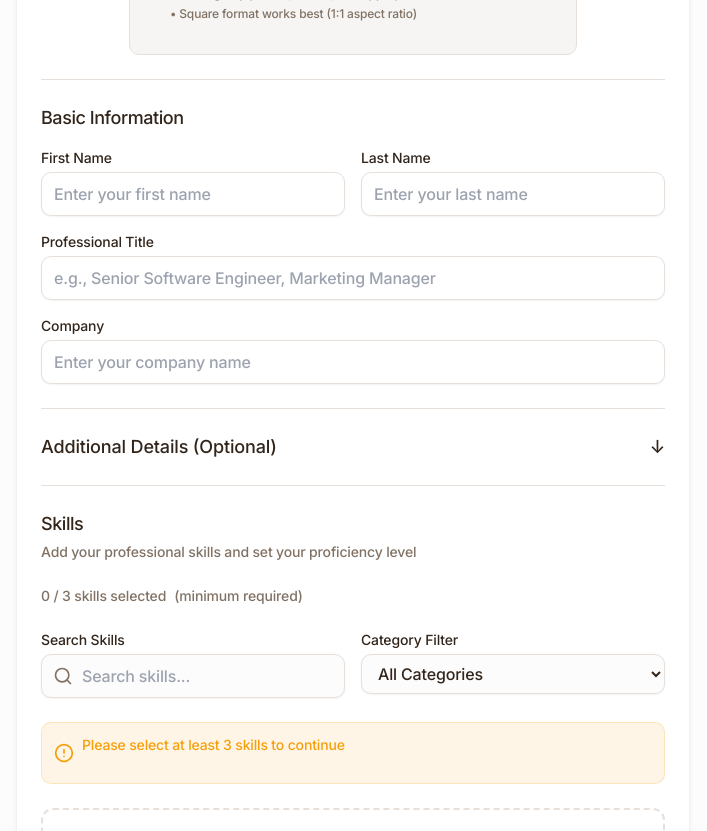
Test case: ProfileCreationForm › validates URL fields correctly
(page scrolled)
Expand to show URL fields
Click the text "Additional Details (Optional)" at (159, 447), box [41,433,277,461]
(page scrolled)
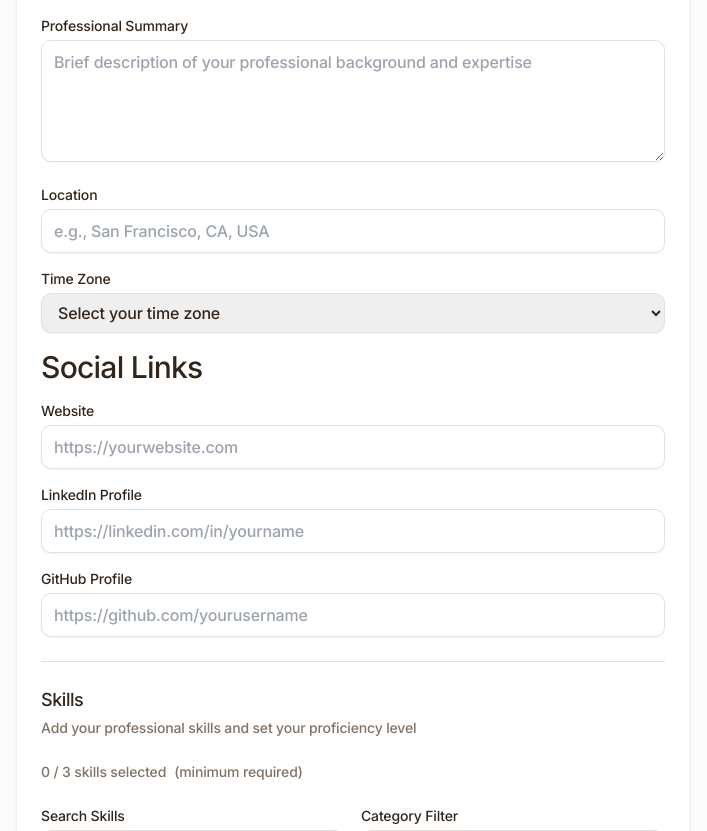
Check: the field labelled "Website" is shown
Enter invalid URL
Type "invalid-url" into the field labelled "Website" at (353, 447), box [41,425,665,469]
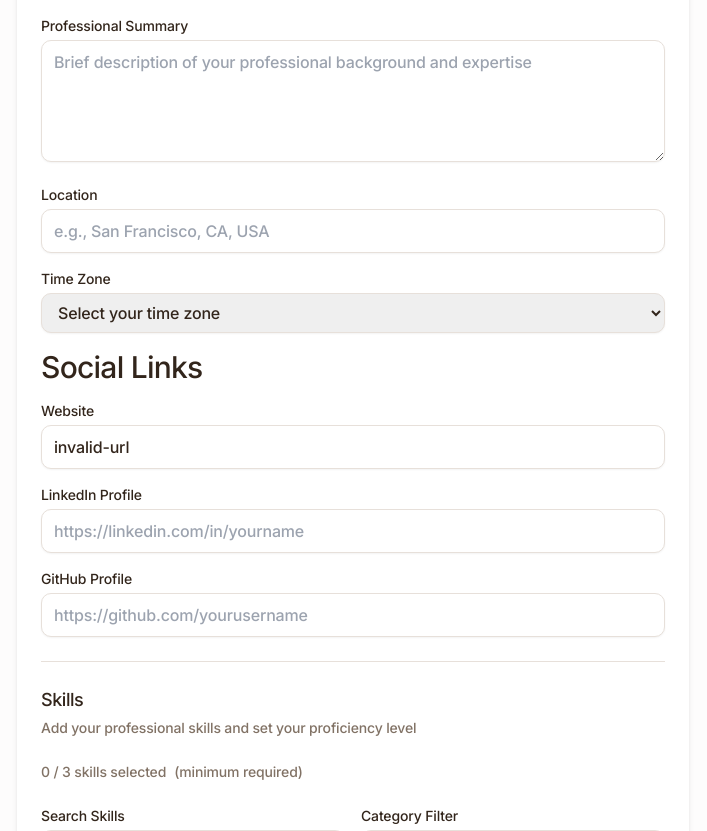
Leave the field labelled "Website", box [41,425,665,469]
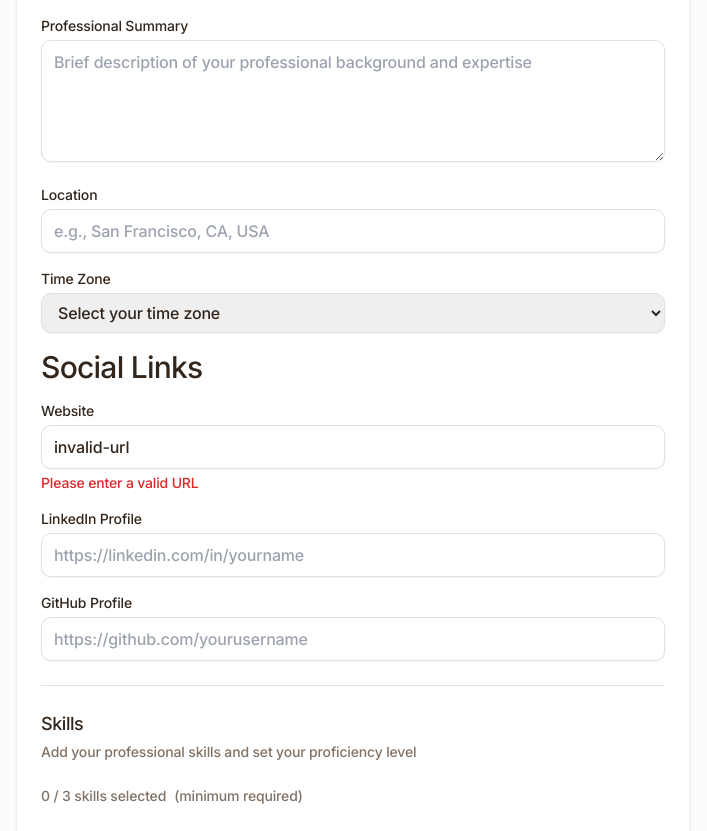
Check: the text "Please enter a valid URL" is shown, box [41,474,198,491]
